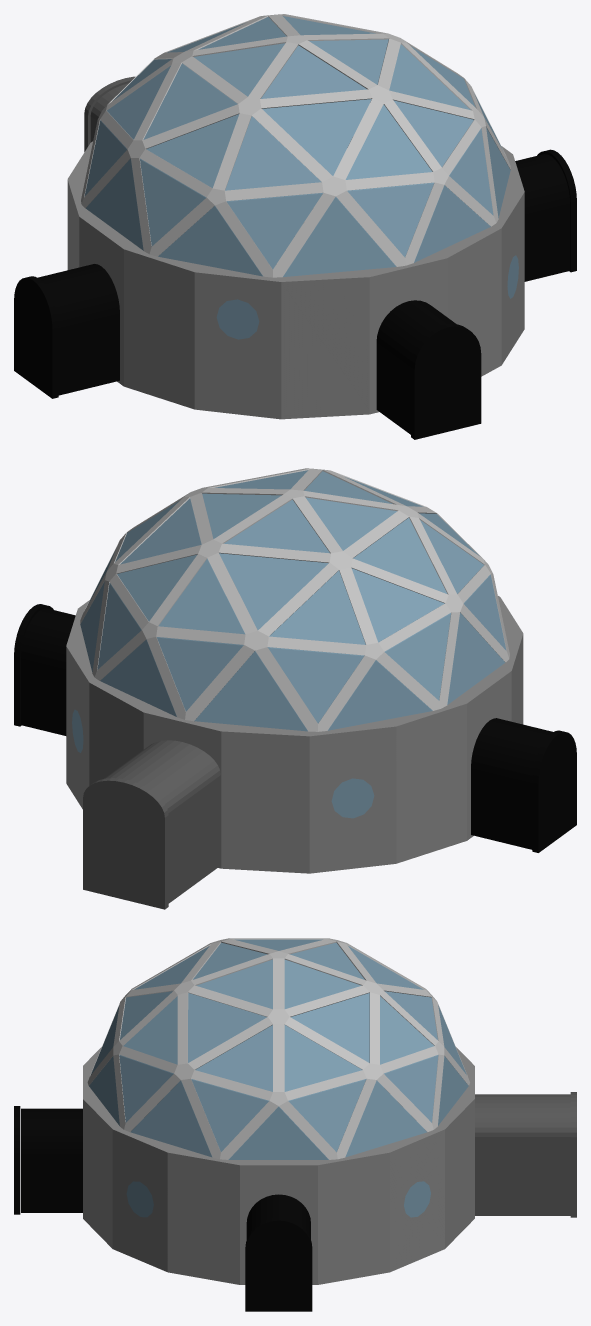
Rendered from Habitat.fbx.
The picture shows the model from 3 angles, top to bottom: view 1: azimuth 30°, elevation 25°; view 2: azimuth 150°, elevation 25°; view 3: azimuth 270°, elevation 25°; orthographic projection. The views are drawn at different scales.
Visible parts, largest first — view 1: dome glass, body, dome frame, connector.003, connector wall.002, connector.002, connector.001, connector wall.001, connector wall, airlock door 1, airlock; view 2: dome glass, body, dome frame, airlock door 1, airlock, connector.003, connector.002, connector wall.001, connector wall; view 3: dome glass, body, dome frame, airlock, connector.001, connector wall, connector.002, airlock door 1, connector wall.002.
Boxes of the visible parts, left/top/right/bottom form: dome glass: left=84, top=16, right=510, bottom=276; body: left=67, top=141, right=524, bottom=419; dome frame: left=81, top=14, right=510, bottom=277; connector.003: left=37, top=264, right=119, bottom=395; connector wall.002: left=411, top=324, right=481, bottom=439; connector.002: left=515, top=154, right=569, bottom=281; connector.001: left=376, top=300, right=456, bottom=434; connector wall.001: left=14, top=276, right=58, bottom=398; connector wall: left=537, top=149, right=576, bottom=272; airlock door 1: left=84, top=76, right=135, bottom=151; airlock: left=90, top=83, right=128, bottom=142; dome glass: left=80, top=470, right=506, bottom=731; body: left=66, top=596, right=523, bottom=873; dome frame: left=80, top=468, right=509, bottom=731; airlock door 1: left=83, top=778, right=168, bottom=909; airlock: left=104, top=740, right=220, bottom=903; connector.003: left=471, top=718, right=552, bottom=849; connector.002: left=21, top=608, right=75, bottom=735; connector wall.001: left=532, top=730, right=576, bottom=852; connector wall: left=14, top=604, right=53, bottom=726; dome glass: left=89, top=939, right=468, bottom=1159; body: left=83, top=1047, right=474, bottom=1284; dome frame: left=87, top=938, right=469, bottom=1159; airlock: left=475, top=1094, right=570, bottom=1215; connector.001: left=21, top=1108, right=82, bottom=1212; connector wall: left=245, top=1218, right=312, bottom=1311; connector.002: left=246, top=1194, right=310, bottom=1239; airlock door 1: left=570, top=1092, right=576, bottom=1217; connector wall.002: left=14, top=1106, right=20, bottom=1214.
Size of the model in its own units: 820 by 423 by 873.
